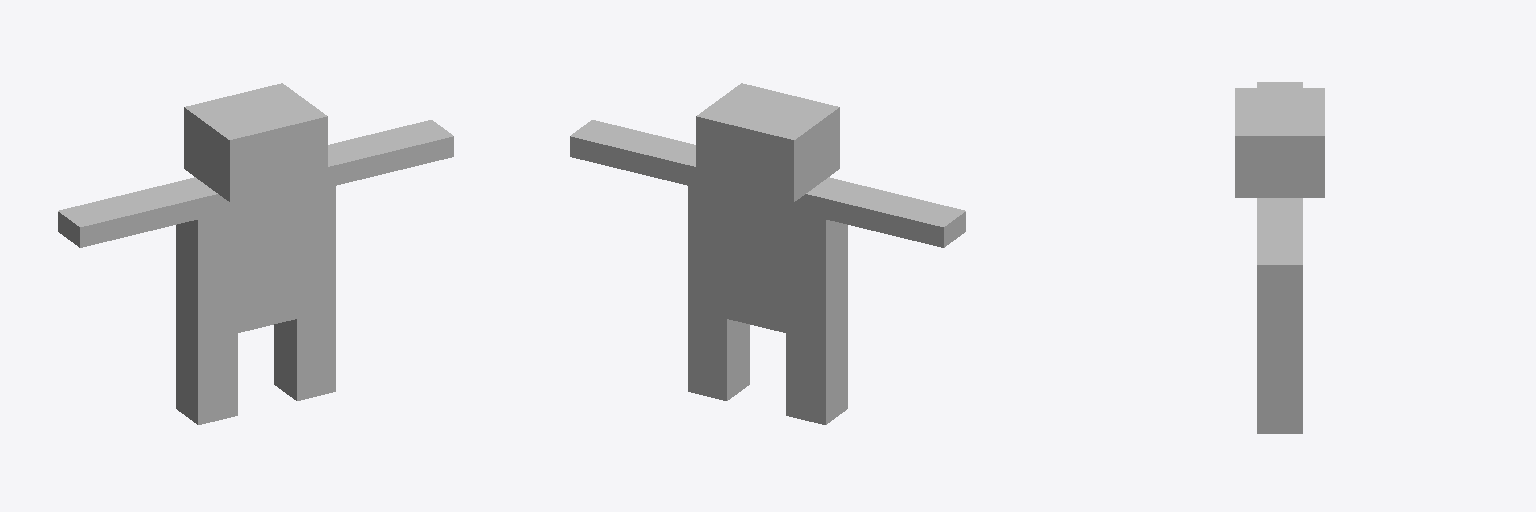
The model's file is Gallery_Minion_03.obj.
The picture shows the model from 3 angles: view 1: azimuth 30°, elevation 25°; view 2: azimuth 150°, elevation 25°; view 3: azimuth 270°, elevation 25°; orthographic projection.
Parts seen in each view (by area): view 1: object 1; view 2: object 1; view 3: object 1.
Part boxes in pixels (bbox=[...]): object 1: bbox=[58, 83, 453, 424]; object 1: bbox=[570, 83, 965, 424]; object 1: bbox=[1235, 82, 1324, 433].
Size of the model in its own units: 1.9 by 1.4 by 0.4.